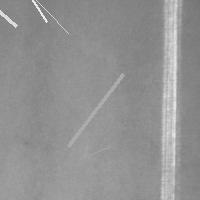scratches: (156, 1, 183, 200), (63, 69, 128, 151), (0, 0, 73, 38), (0, 0, 52, 27), (75, 142, 114, 164), (0, 0, 21, 31)
